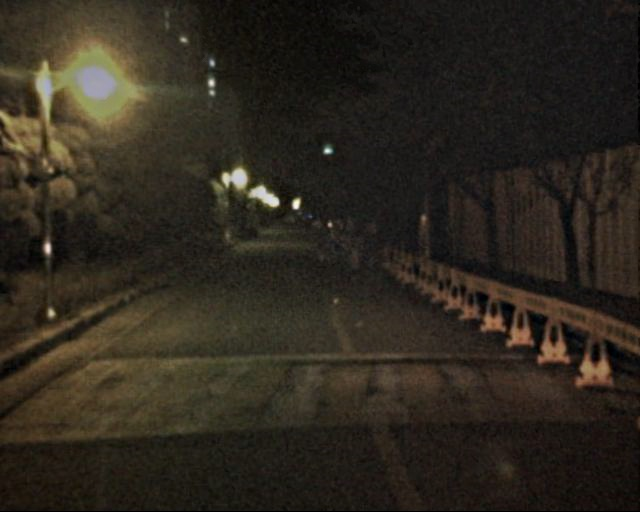person: (360, 218, 387, 284), (346, 225, 366, 274), (324, 216, 343, 262), (309, 218, 327, 262), (340, 217, 357, 259)
